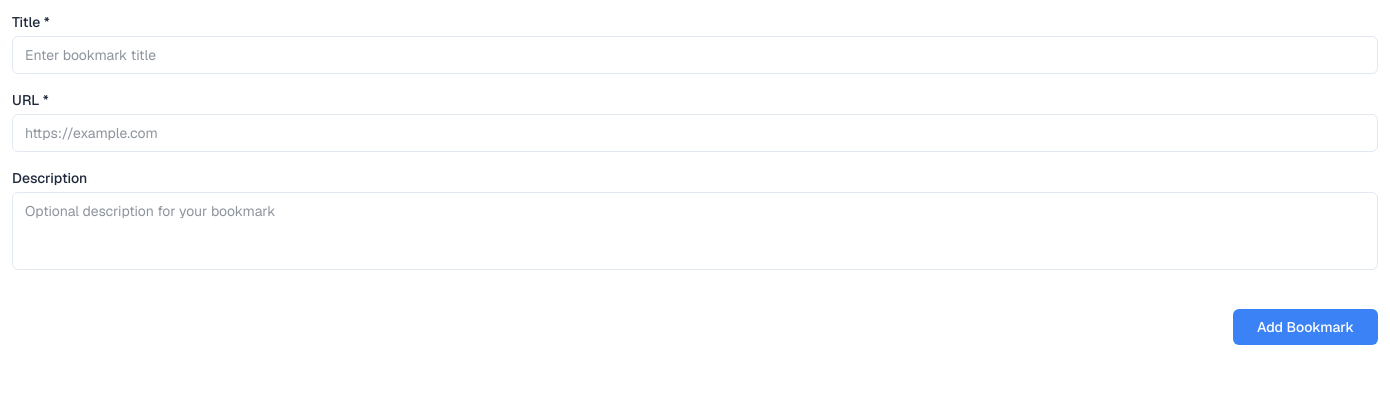
Test: BookmarkForm › Form Validation Logic › should validate required fields using zod schema
Try to submit empty form
Click the button "Add Bookmark": (1305, 327) [1233,309,1378,345]
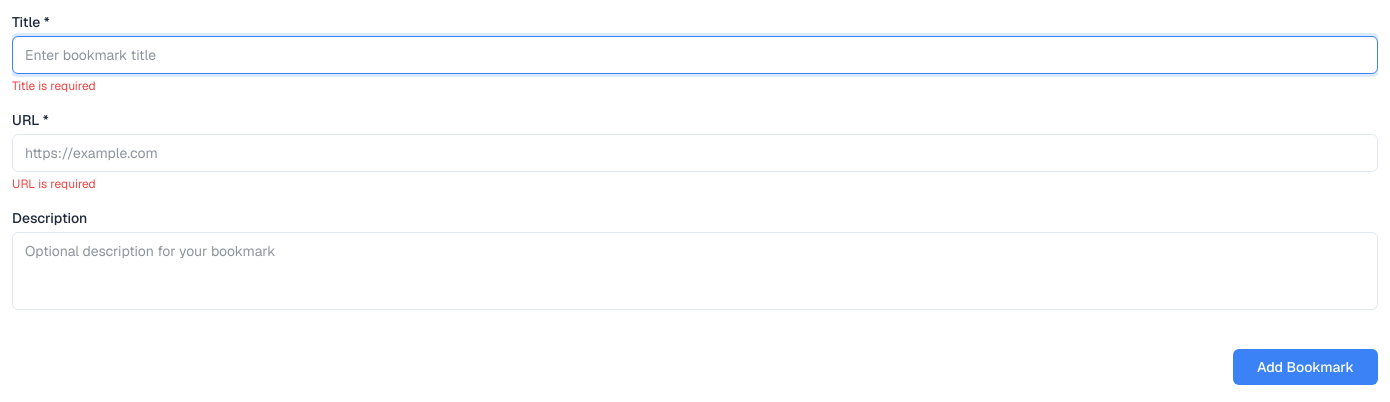
Expected: the text "Title is required" is shown, [12,78,96,94]
Expected: the text "URL is required" is shown, [12,176,96,192]
